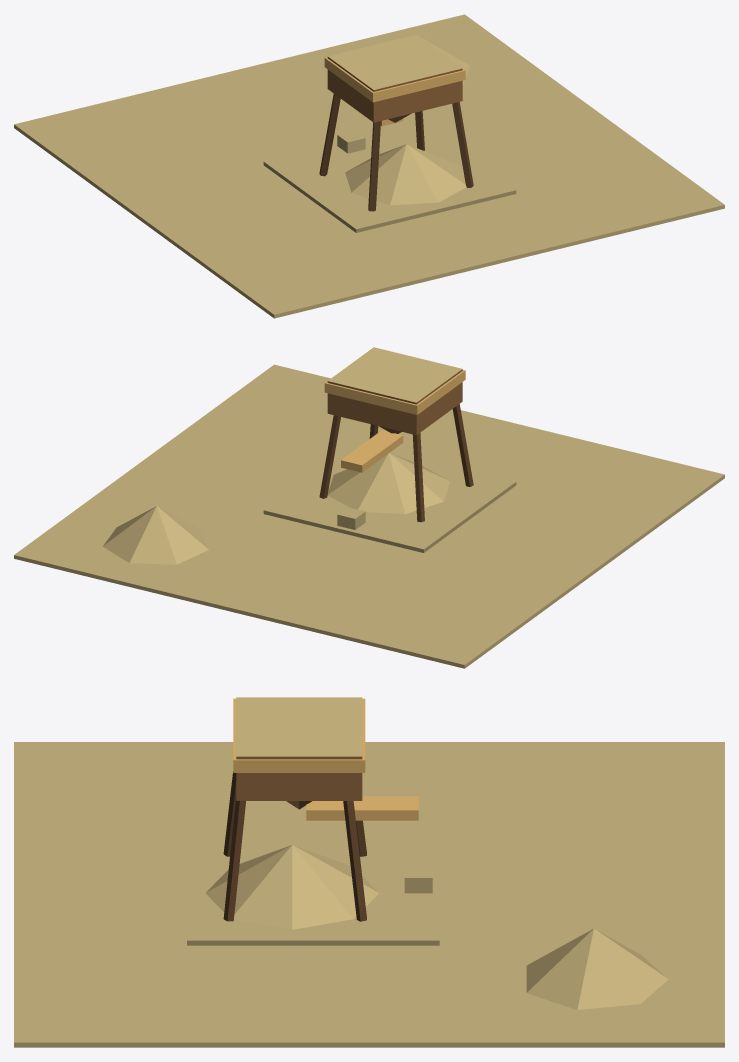
The model's file is sand_collector_1.obj.
3 views of the same model, one above another, from view 1: azimuth 30°, elevation 25°; view 2: azimuth 150°, elevation 25°; view 3: azimuth 270°, elevation 25° (orthographic). The views are drawn at different scales.
Size of the model in its own units: 3.8 by 1 by 3.8.
